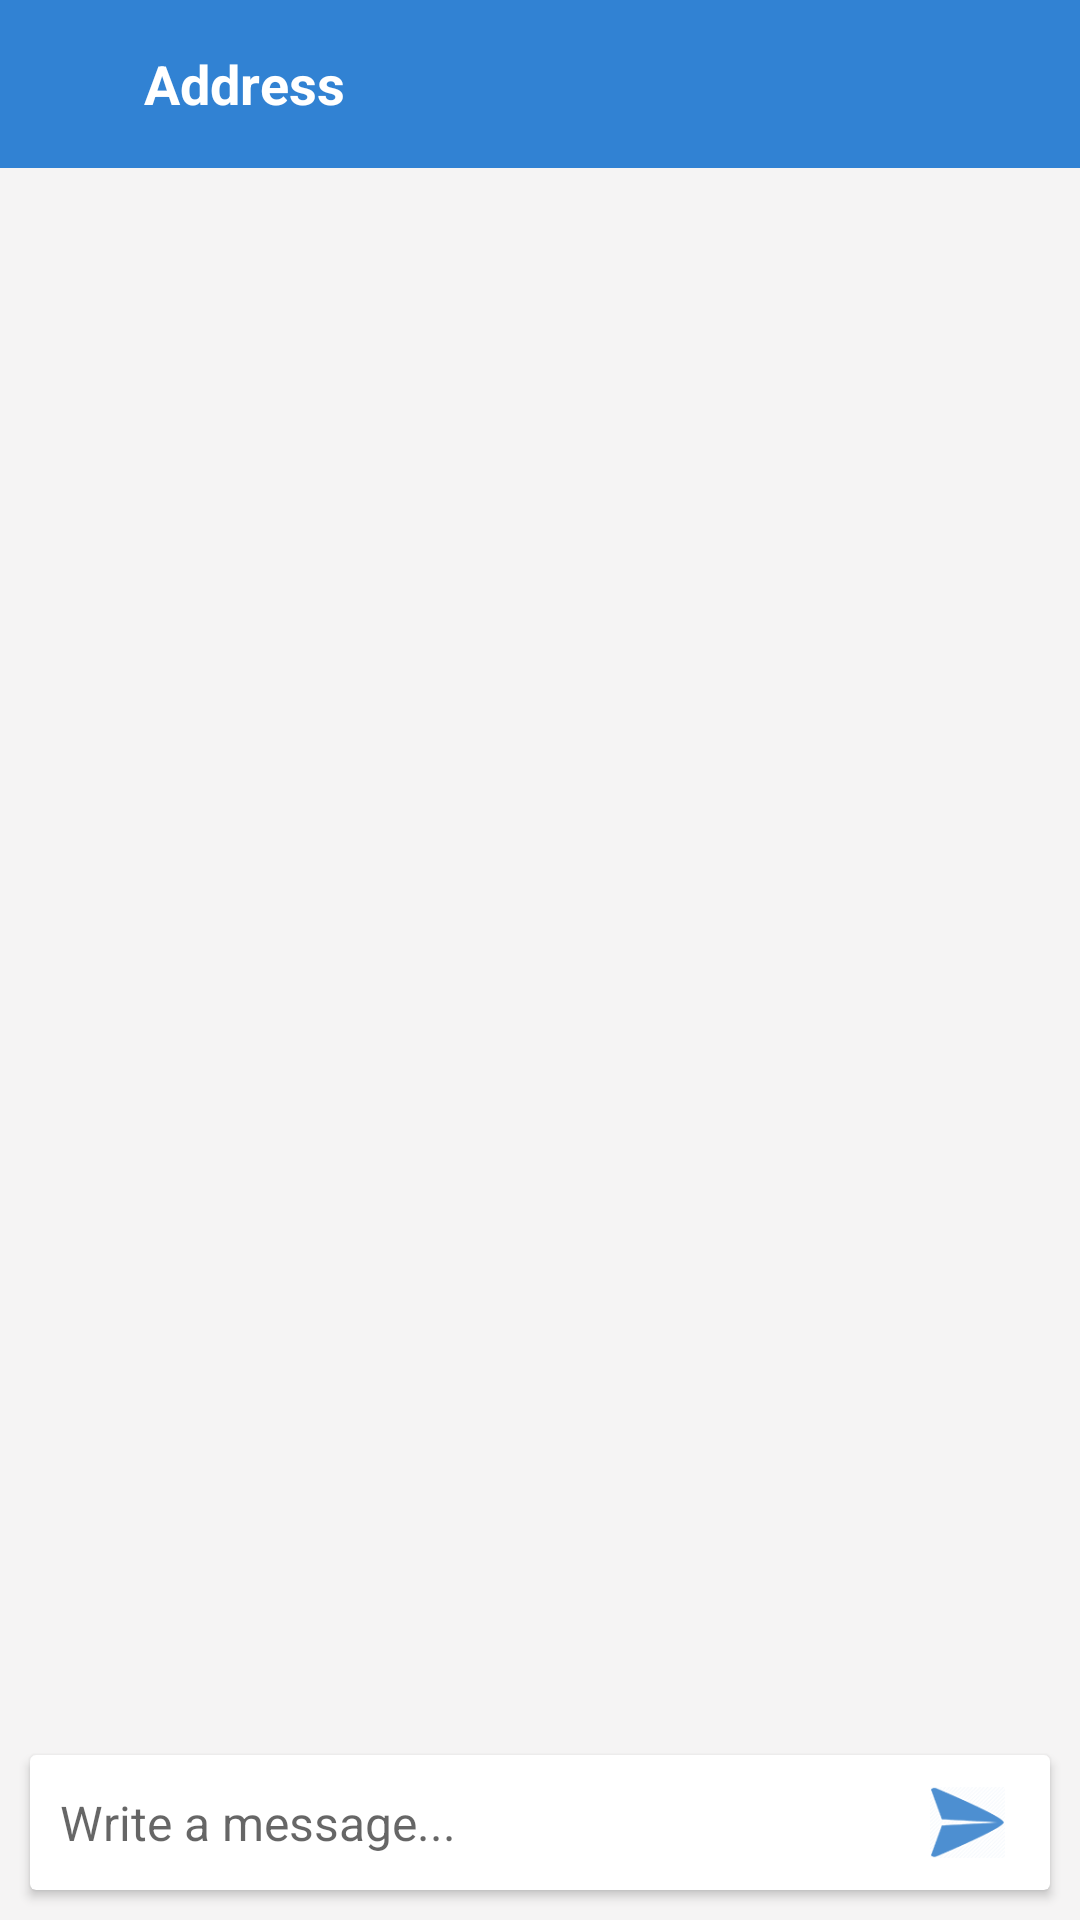

Icon bounding boxes for this 1080px x 1920px phone screenshot, format (x1, y1, x2, y2):
send: (931, 1787, 1004, 1857)
